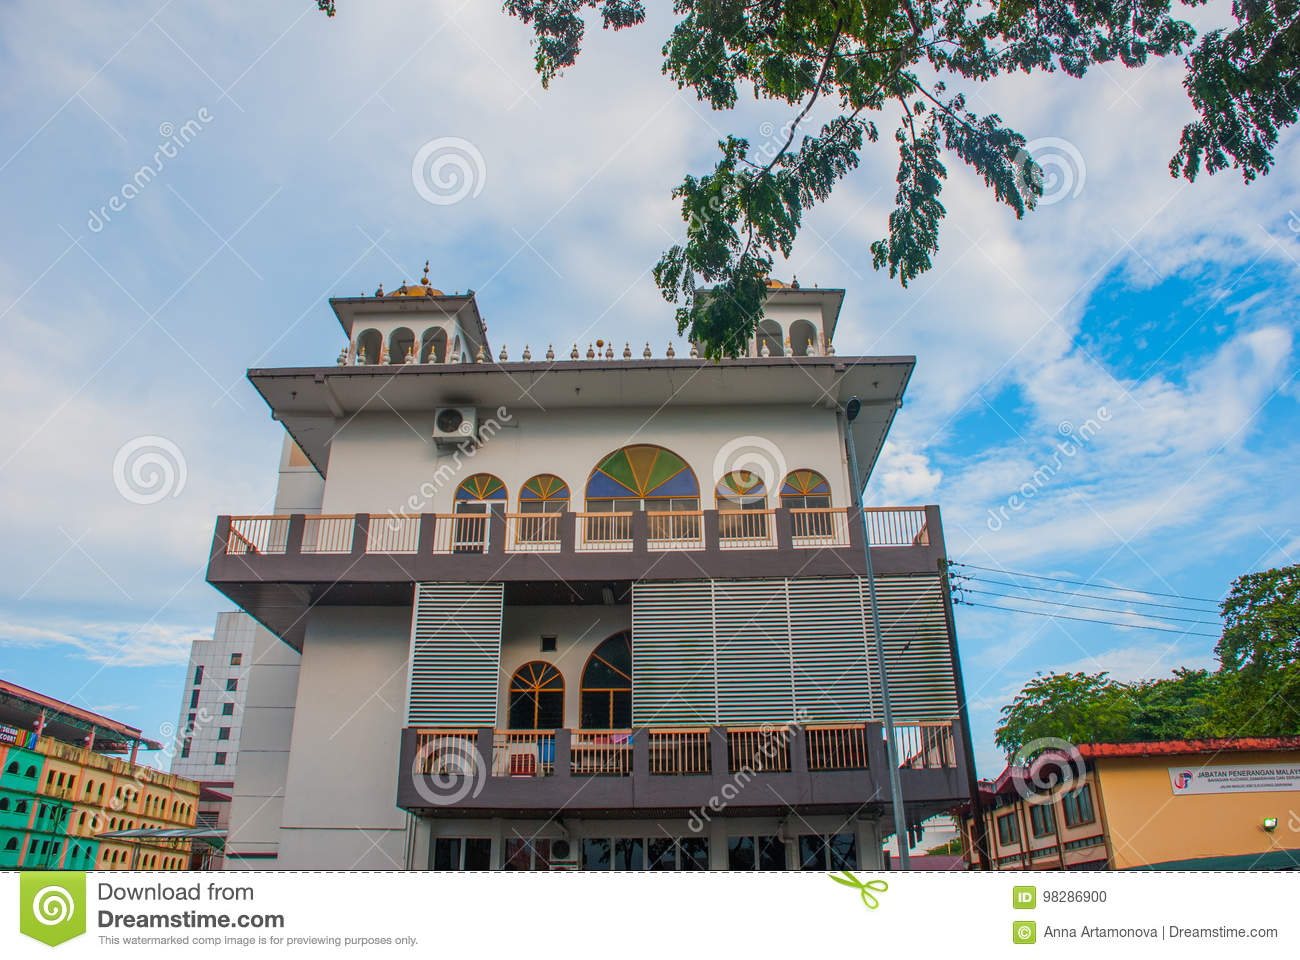Gurdwara: (115, 263, 987, 865)
